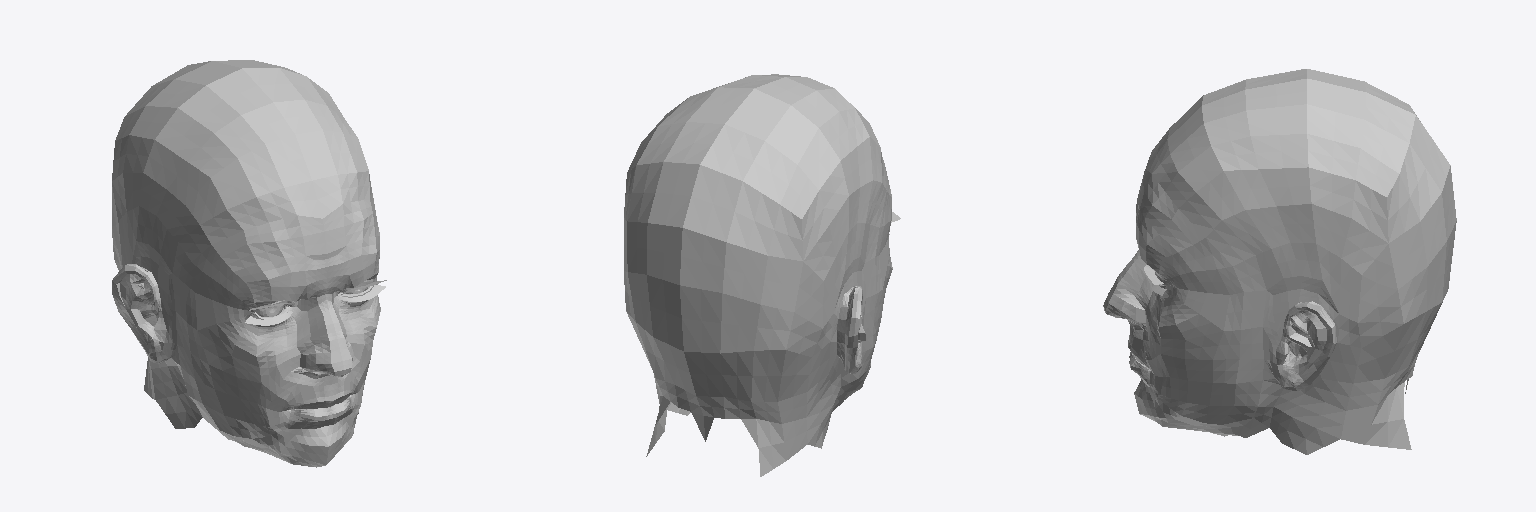
The model's file is mydeadguyhead.obj.
3 views of the same model, side by side, from view 1: azimuth 30°, elevation 25°; view 2: azimuth 150°, elevation 25°; view 3: azimuth 270°, elevation 25° (orthographic).
Parts seen in each view (by area): view 1: dead_man; view 2: dead_man; view 3: dead_man.
Boxes of the visible parts, <box> form: dead_man: <box>112,60,386,467</box>; dead_man: <box>624,74,900,476</box>; dead_man: <box>1103,69,1456,454</box>.
Size of the model in its own units: 0.6275 by 0.9006 by 0.8124.